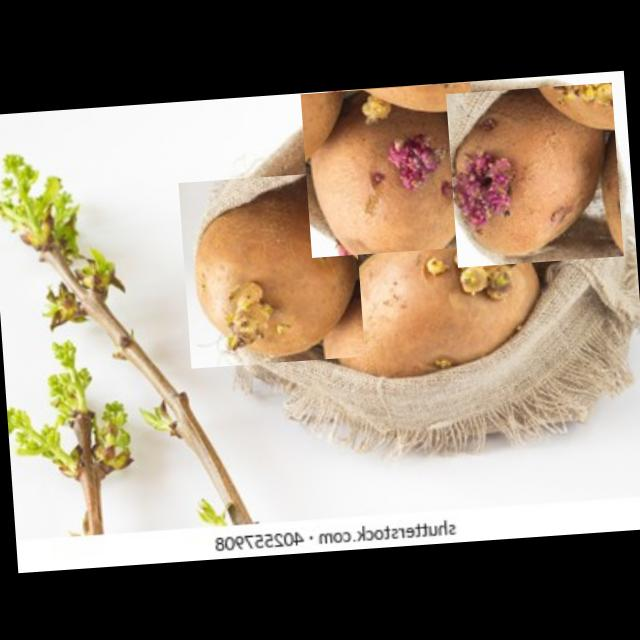Sprouted potato: (321, 205, 554, 386), (177, 170, 364, 368), (444, 81, 622, 266), (299, 81, 480, 256)
